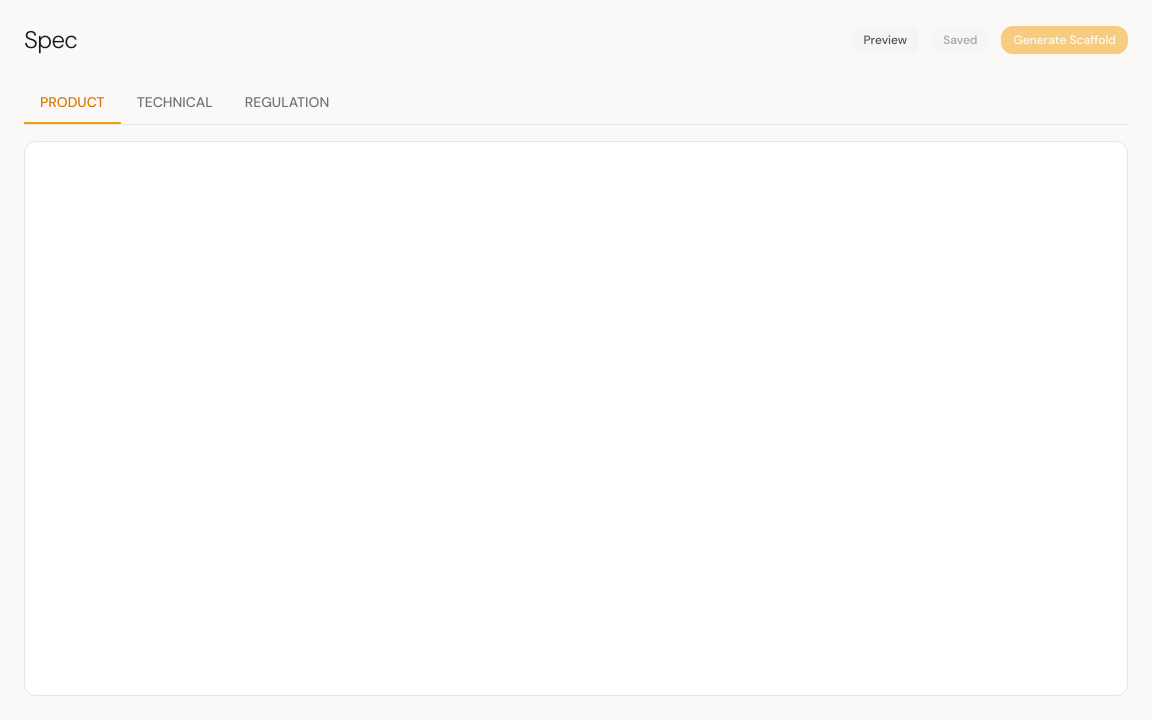
Scenario: SpecPage › Generate Scaffold › should show error when generation fails
Click the tab "TECHNICAL". click: click(175, 102)
box: left=121, top=80, right=229, bottom=124
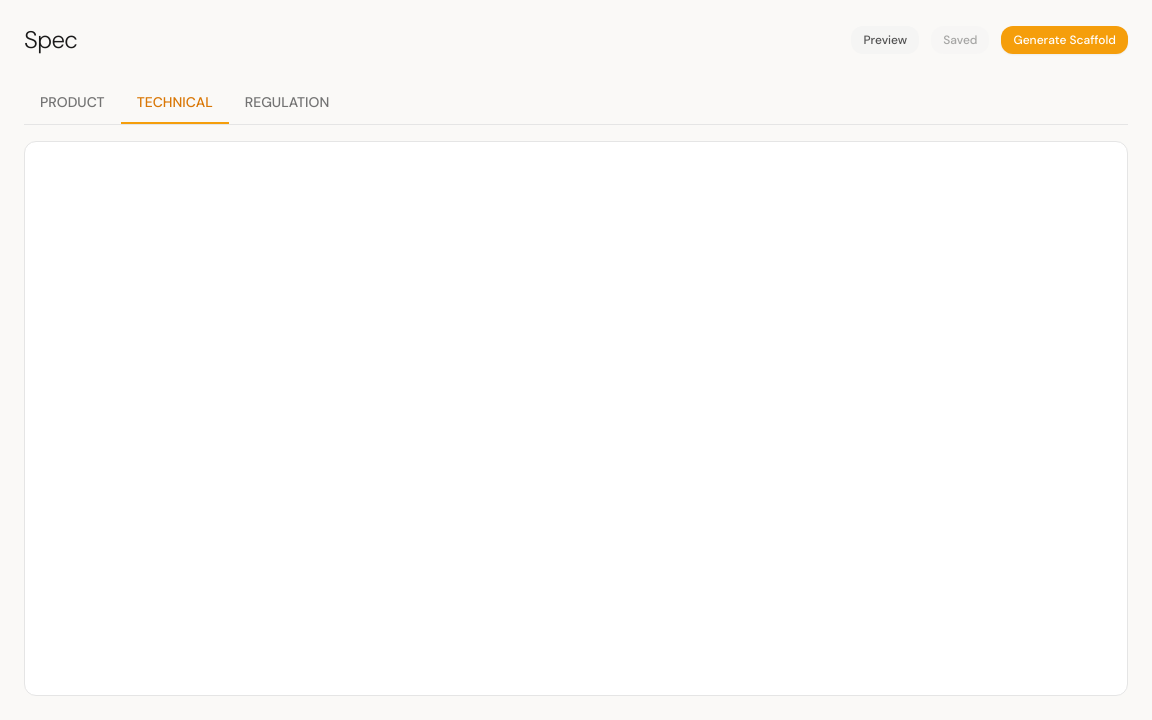
Result: the button "Generate Scaffold" is enabled
Click the button "Generate Scaffold". click: click(1065, 40)
box: left=1002, top=26, right=1128, bottom=54
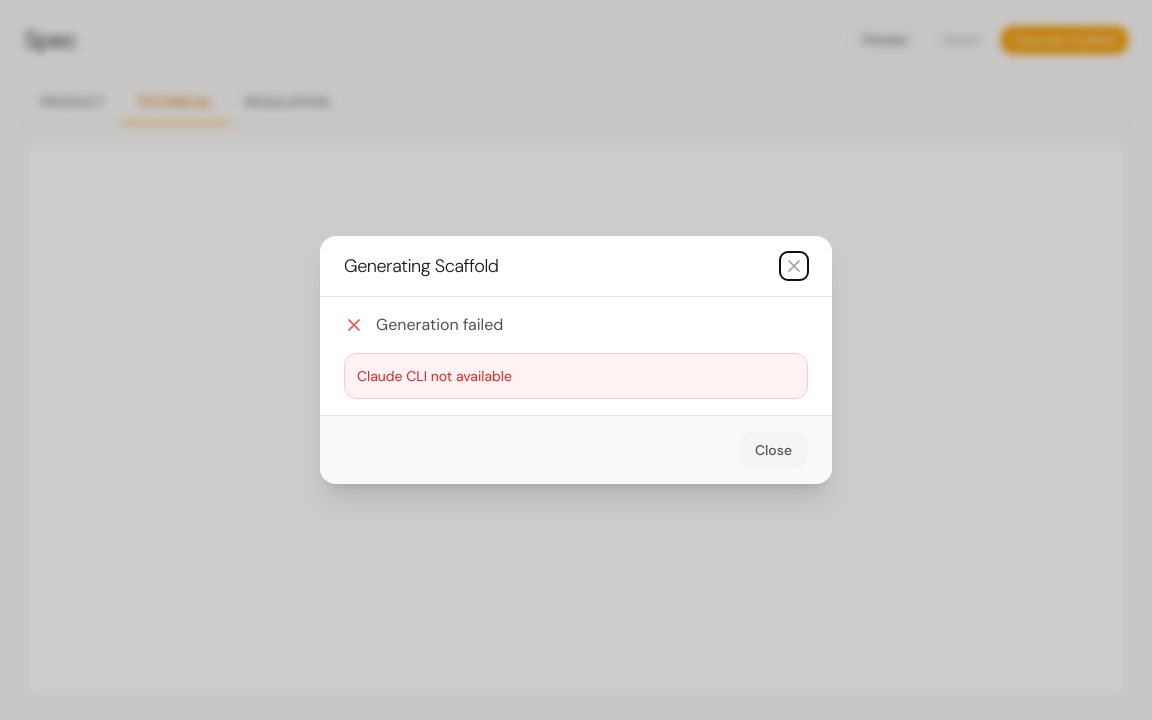
Result: the text "Claude CLI not available" is shown at left=344, top=353, right=808, bottom=399
